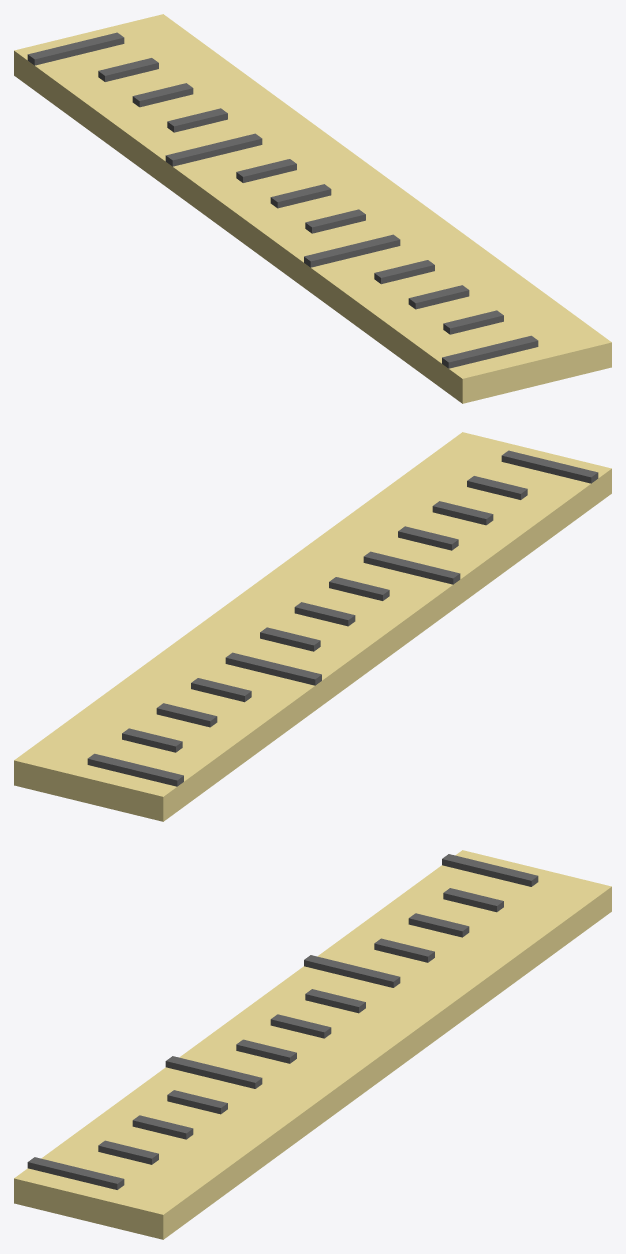
The model's file is ruler.glb.
3 renders of one model, top to bottom at view 1: azimuth 30°, elevation 25°; view 2: azimuth 150°, elevation 25°; view 3: azimuth 330°, elevation 25°, orthographic.
Parts seen in each view (by area): view 1: ruler; view 2: ruler; view 3: ruler.
Boxes of the visible parts, x1,y1,x2,y2 form: ruler: (14, 14, 611, 403); ruler: (14, 432, 611, 821); ruler: (14, 850, 611, 1239).
Size of the model in its own units: 0.05 by 0.01 by 0.26.
